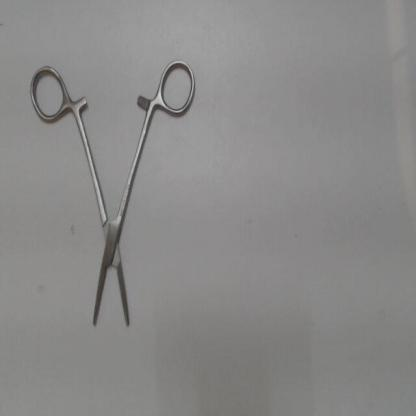Mayo Needle Holder: (25, 56, 201, 334)
